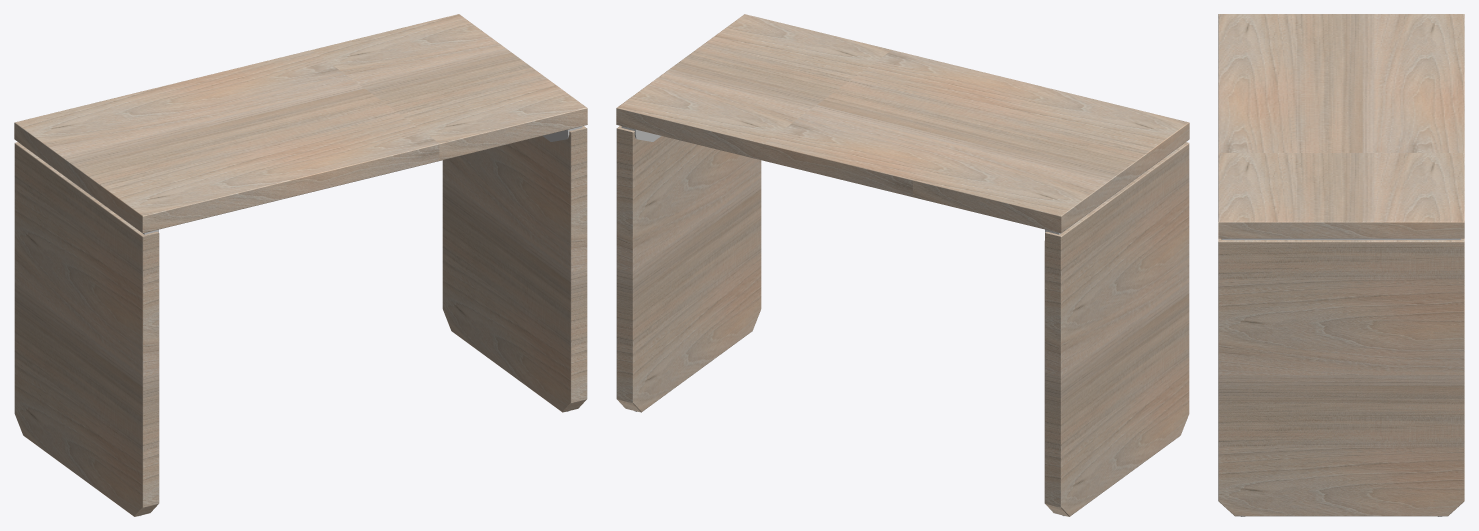
3 views of the same model, side by side, from view 1: azimuth 30°, elevation 25°; view 2: azimuth 150°, elevation 25°; view 3: azimuth 270°, elevation 25° (orthographic). The views are drawn at different scales.
Parts seen in each view (by area): view 1: 4 (×2), 5 (×2), 6 (×2); view 2: 4 (×2), 5 (×2), 6 (×2); view 3: 6 (×2), 4, 5, 12.
Boxes of the visible parts, <box> form: 4 (×2): <box>14,14,586,516</box>; 5 (×2): <box>14,126,587,515</box>; 6 (×2): <box>14,16,587,411</box>; 4 (×2): <box>617,14,1189,516</box>; 5 (×2): <box>616,126,1189,515</box>; 6 (×2): <box>616,14,1189,411</box>; 6 (×2): <box>1218,14,1464,515</box>; 4: <box>1219,14,1463,221</box>; 5: <box>1218,238,1464,516</box>; 12: <box>1221,238,1461,239</box>.
Bounding box in the file's own units: 1.5 × 0.9994 × 0.7501.
Materials: 3 (1 with a texture image).
